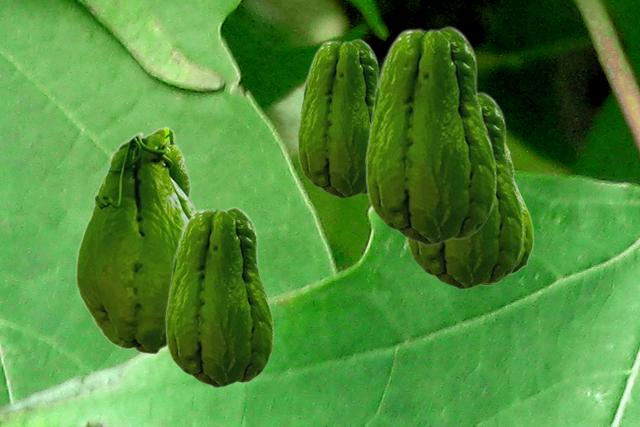sayote: (365, 25, 496, 245), (75, 126, 198, 354), (405, 91, 523, 289), (165, 206, 273, 387), (297, 38, 379, 198), (482, 145, 533, 285)
